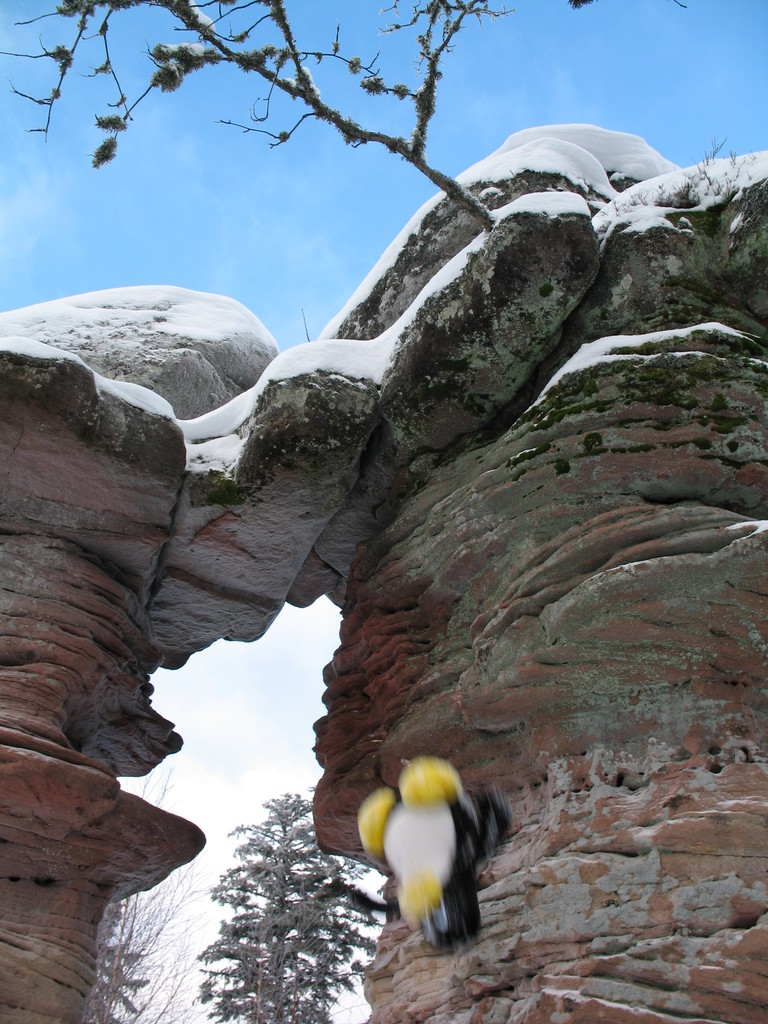Animal: (354, 759, 512, 960)
